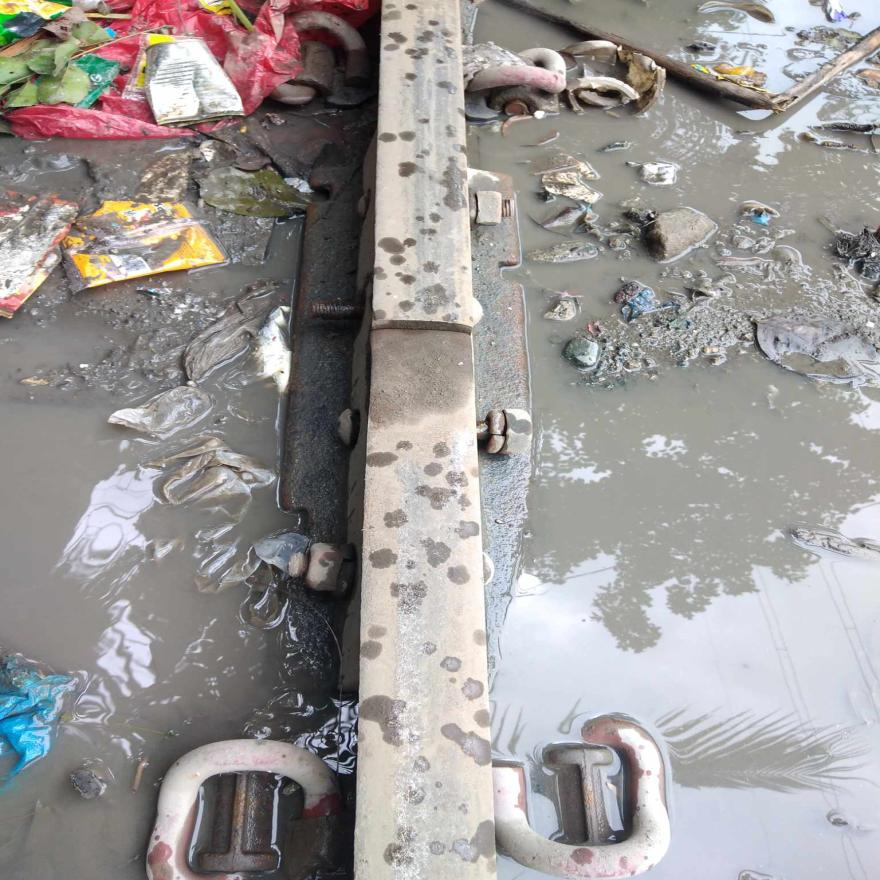railway-gap: (328, 262, 520, 396)
